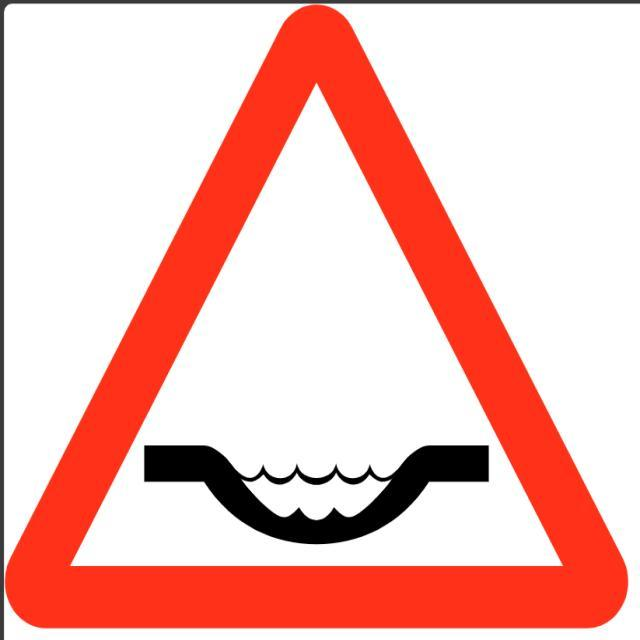dangerous dip: (25, 23, 602, 622)
